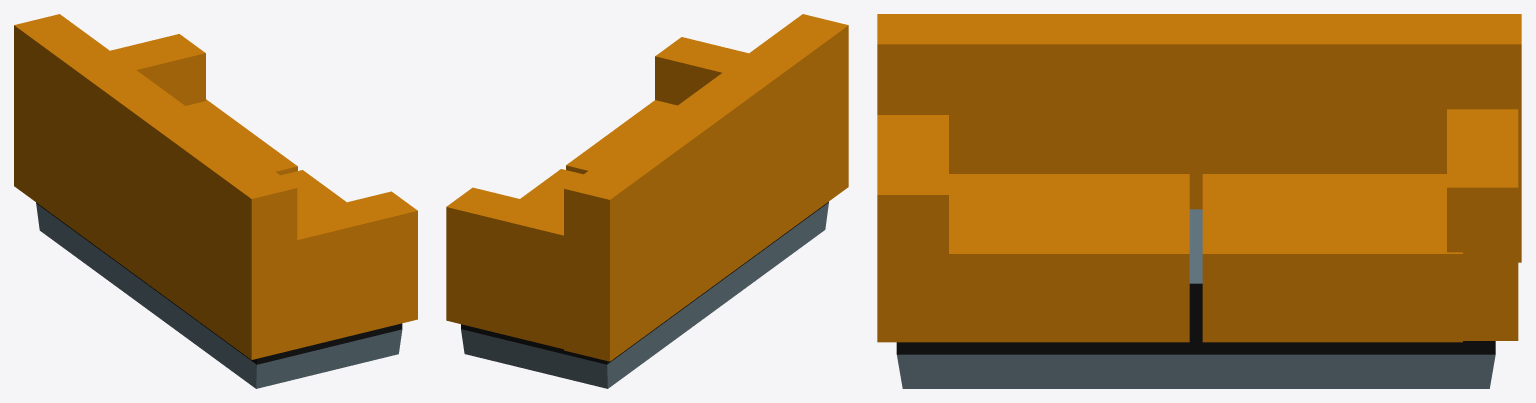
The picture shows the model from 3 angles, left to right: view 1: azimuth 30°, elevation 25°; view 2: azimuth 150°, elevation 25°; view 3: azimuth 270°, elevation 25°; orthographic projection. The views are drawn at different scales.
Parts seen in each view (by area): view 1: node_MeshObject556305408-PolyPaper13; view 2: node_MeshObject556305408-PolyPaper13; view 3: node_MeshObject556305408-PolyPaper13.
Part boxes in pixels (left/top/right/bottom): node_MeshObject556305408-PolyPaper13: left=14, top=14, right=417, bottom=388; node_MeshObject556305408-PolyPaper13: left=446, top=14, right=848, bottom=388; node_MeshObject556305408-PolyPaper13: left=877, top=14, right=1521, bottom=388.
Bounding box in the file's own units: 0.5131 × 0.5901 × 1.27.
